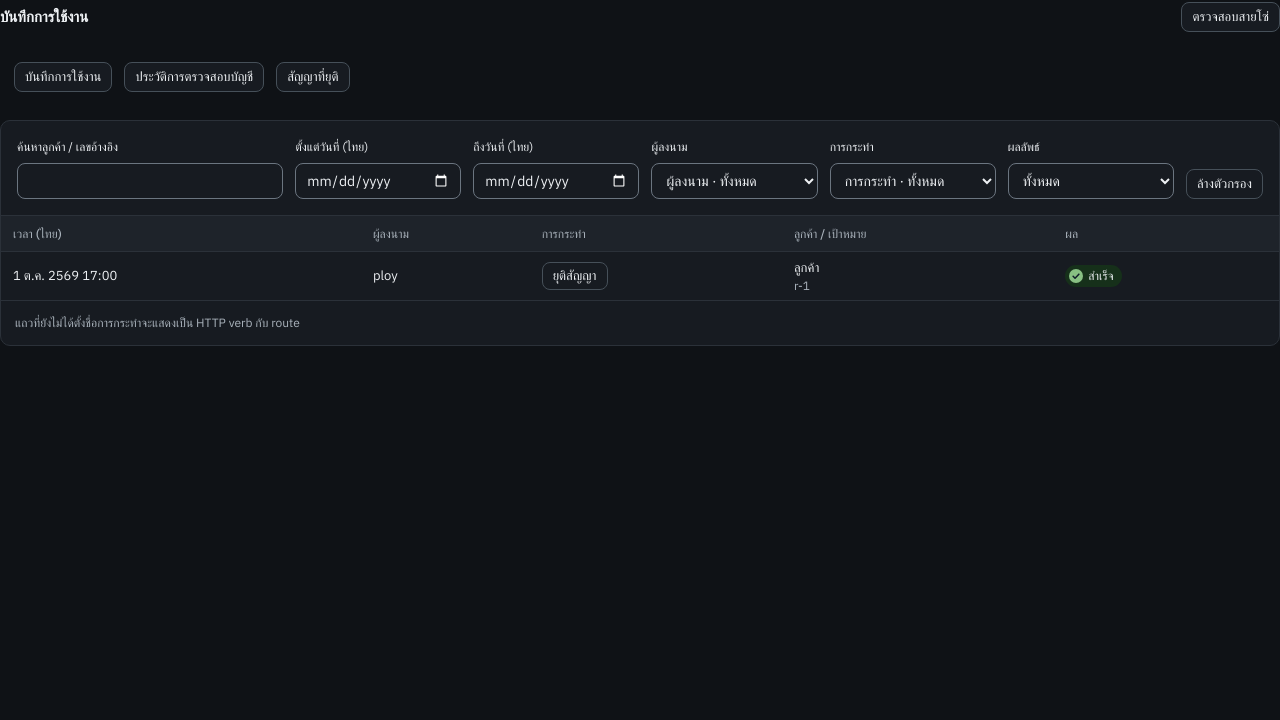
it: shows full evidence and an exact snapshot link in audit details
The image size is (1280, 720).
Click the button "ยุติสัญญา". click: (575, 276)
box: [542,262,608,290]
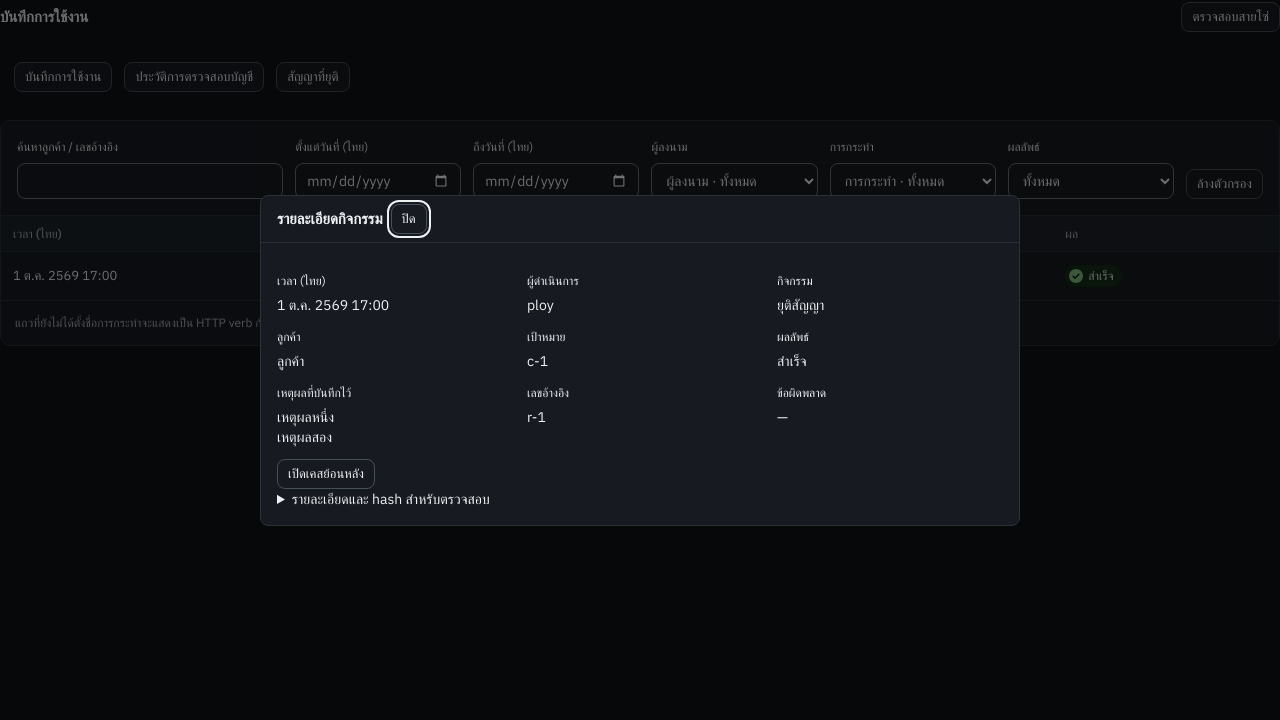
Expected: the dialog "รายละเอียดกิจกรรม" is shown, [260,194,1020,526]
Click the button "ปิด". click: (409, 218)
box: [390,204,427,234]
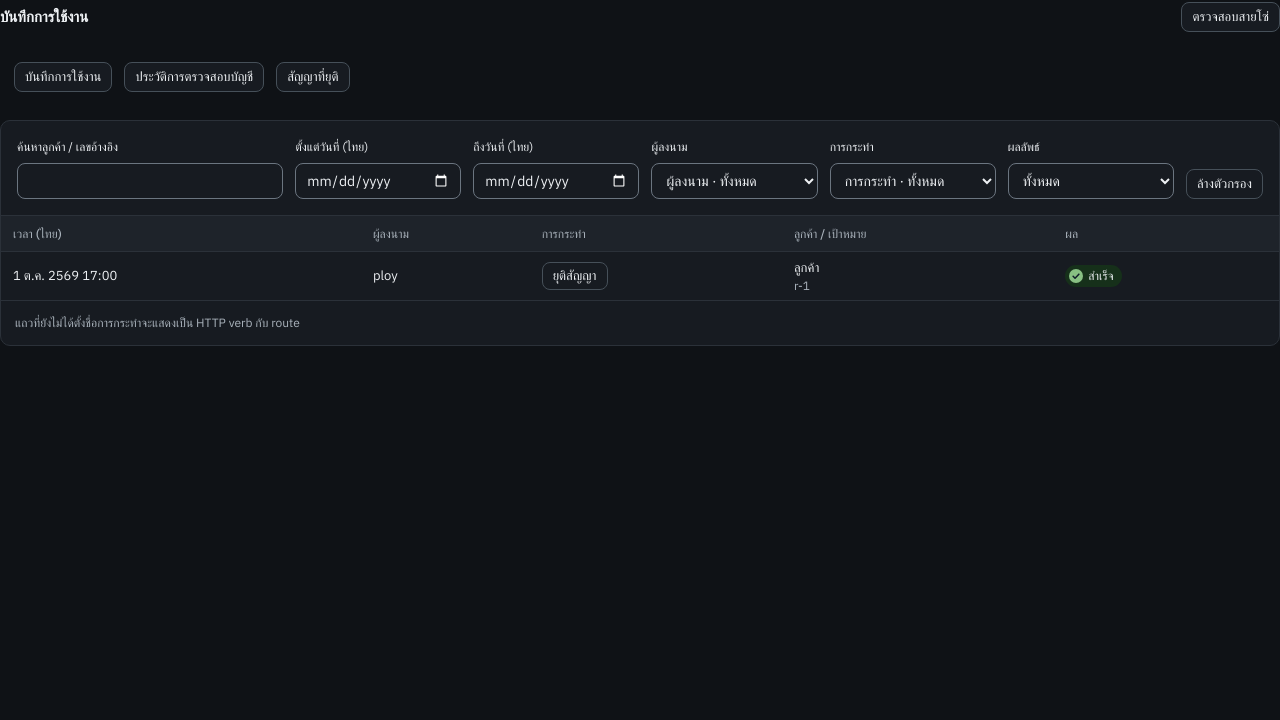
Expected: the dialog is gone
